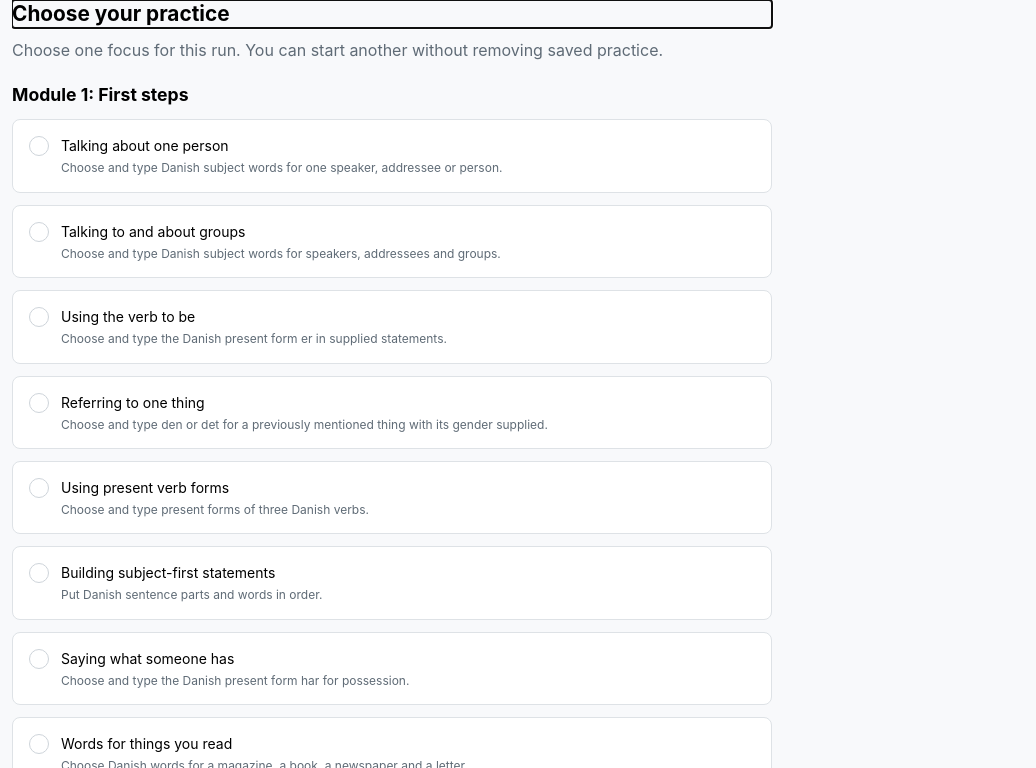
creates Talking about one person only after its exact catalog choice
Expected: the heading "Module 1: First steps" is shown, [12, 84, 188, 105]
Click the radio button labelled "Talking about one person" at [39, 146], box [29, 136, 49, 156]
(page scrolled)
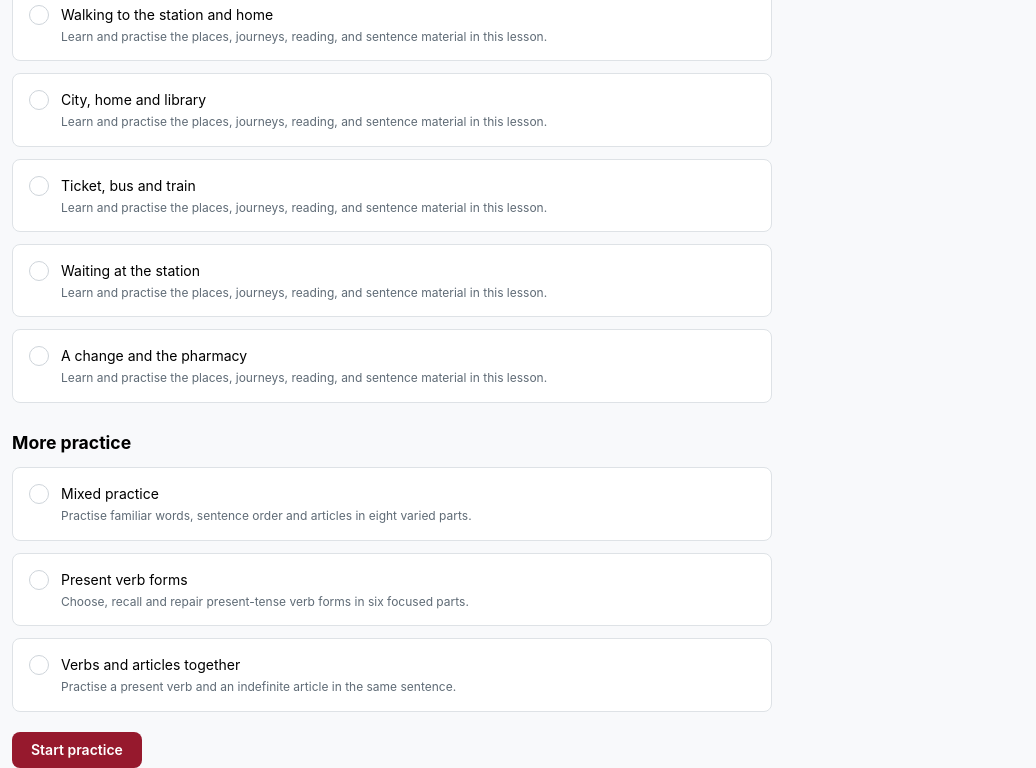
Click the button "Start practice" at [77, 750], box [12, 732, 142, 767]
(page scrolled)
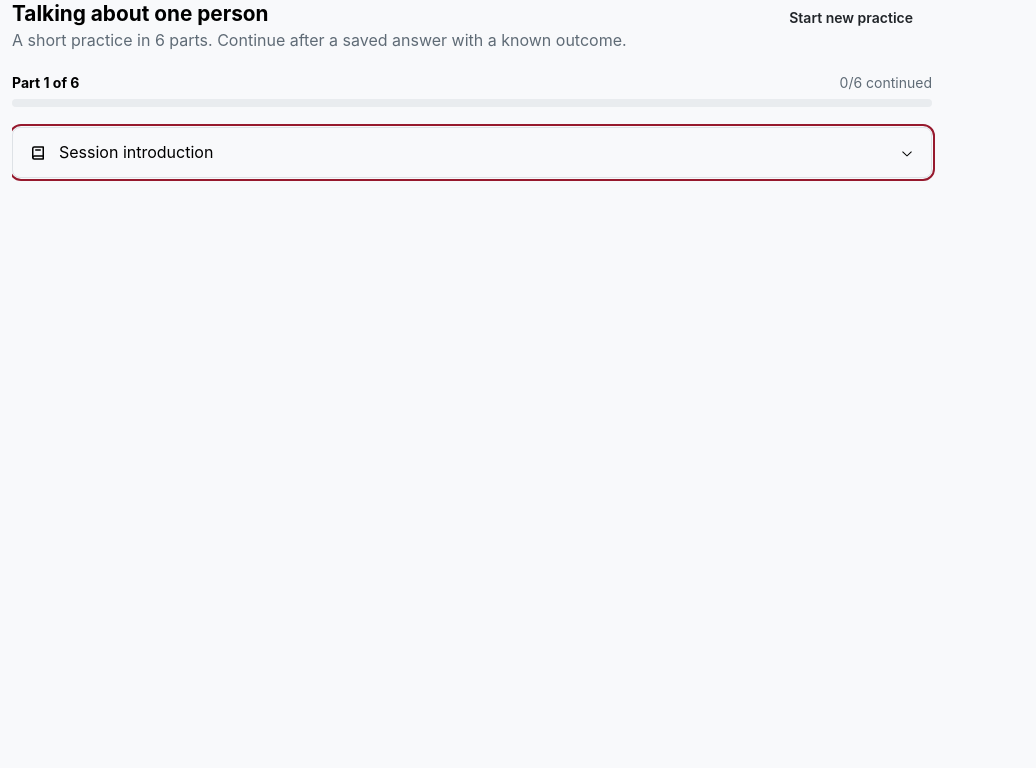
Now the heading "Talking about one person" is shown, box [12, 1, 268, 26]
